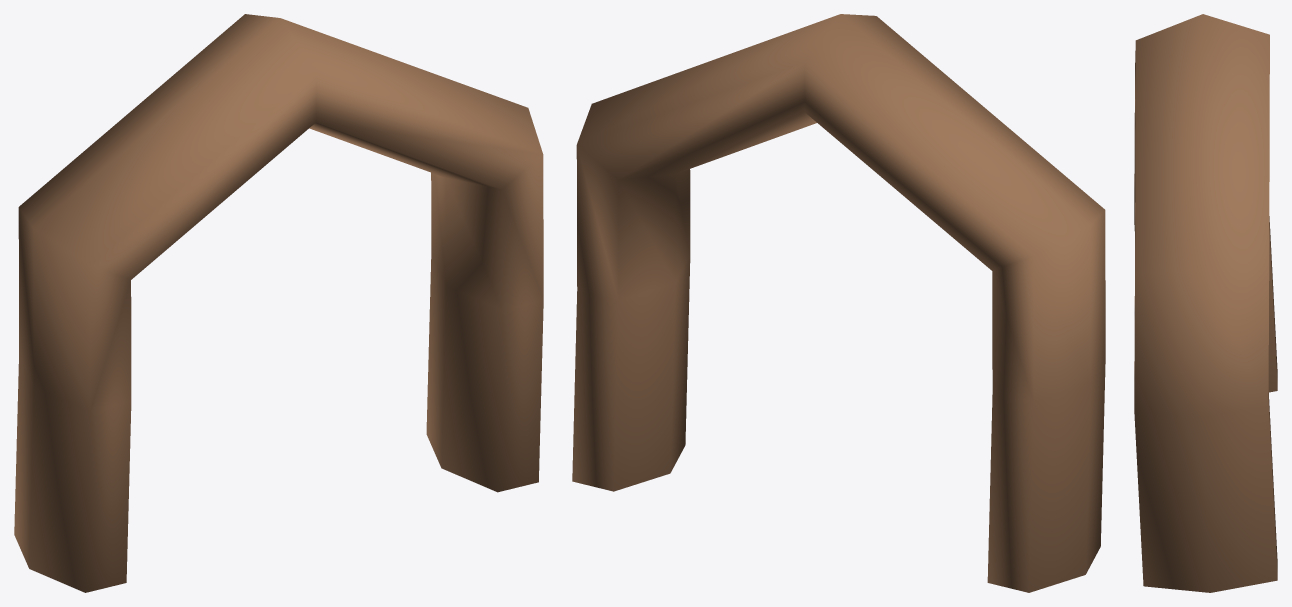
The model's file is Cauldron_Handle_Side_A.fbx.
3 views of the same model, side by side, from view 1: azimuth 30°, elevation 25°; view 2: azimuth 150°, elevation 25°; view 3: azimuth 270°, elevation 25° (orthographic). The views are drawn at different scales.
Visible parts, largest first — view 1: Cauldron_Handle_Side_A; view 2: Cauldron_Handle_Side_A; view 3: Cauldron_Handle_Side_A.
Part boxes in pixels (box(x1,y1,x2,y2)): Cauldron_Handle_Side_A: box(14, 14, 543, 592); Cauldron_Handle_Side_A: box(572, 14, 1105, 592); Cauldron_Handle_Side_A: box(1134, 14, 1277, 592).
Bounding box in the file's own units: 10.13 × 9.71 × 2.7.
